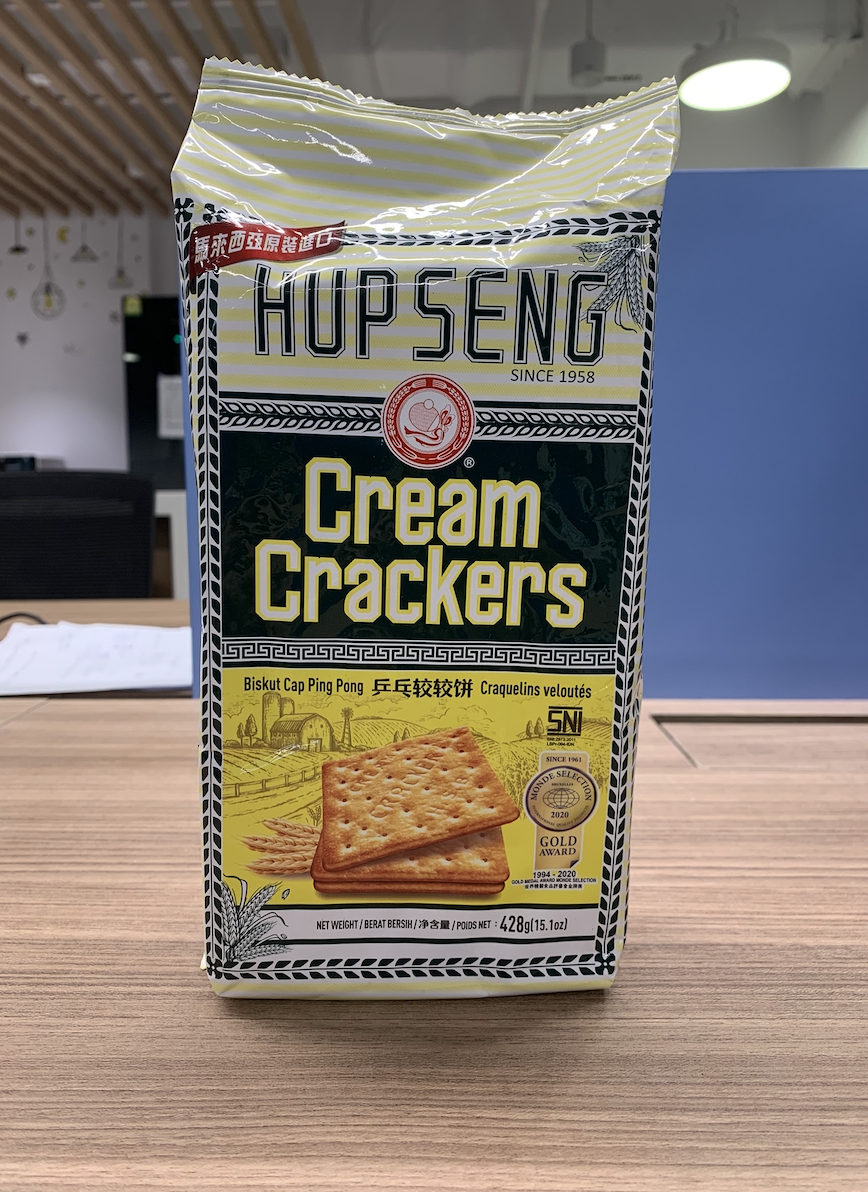crackers_450g: (205, 181, 635, 974)
